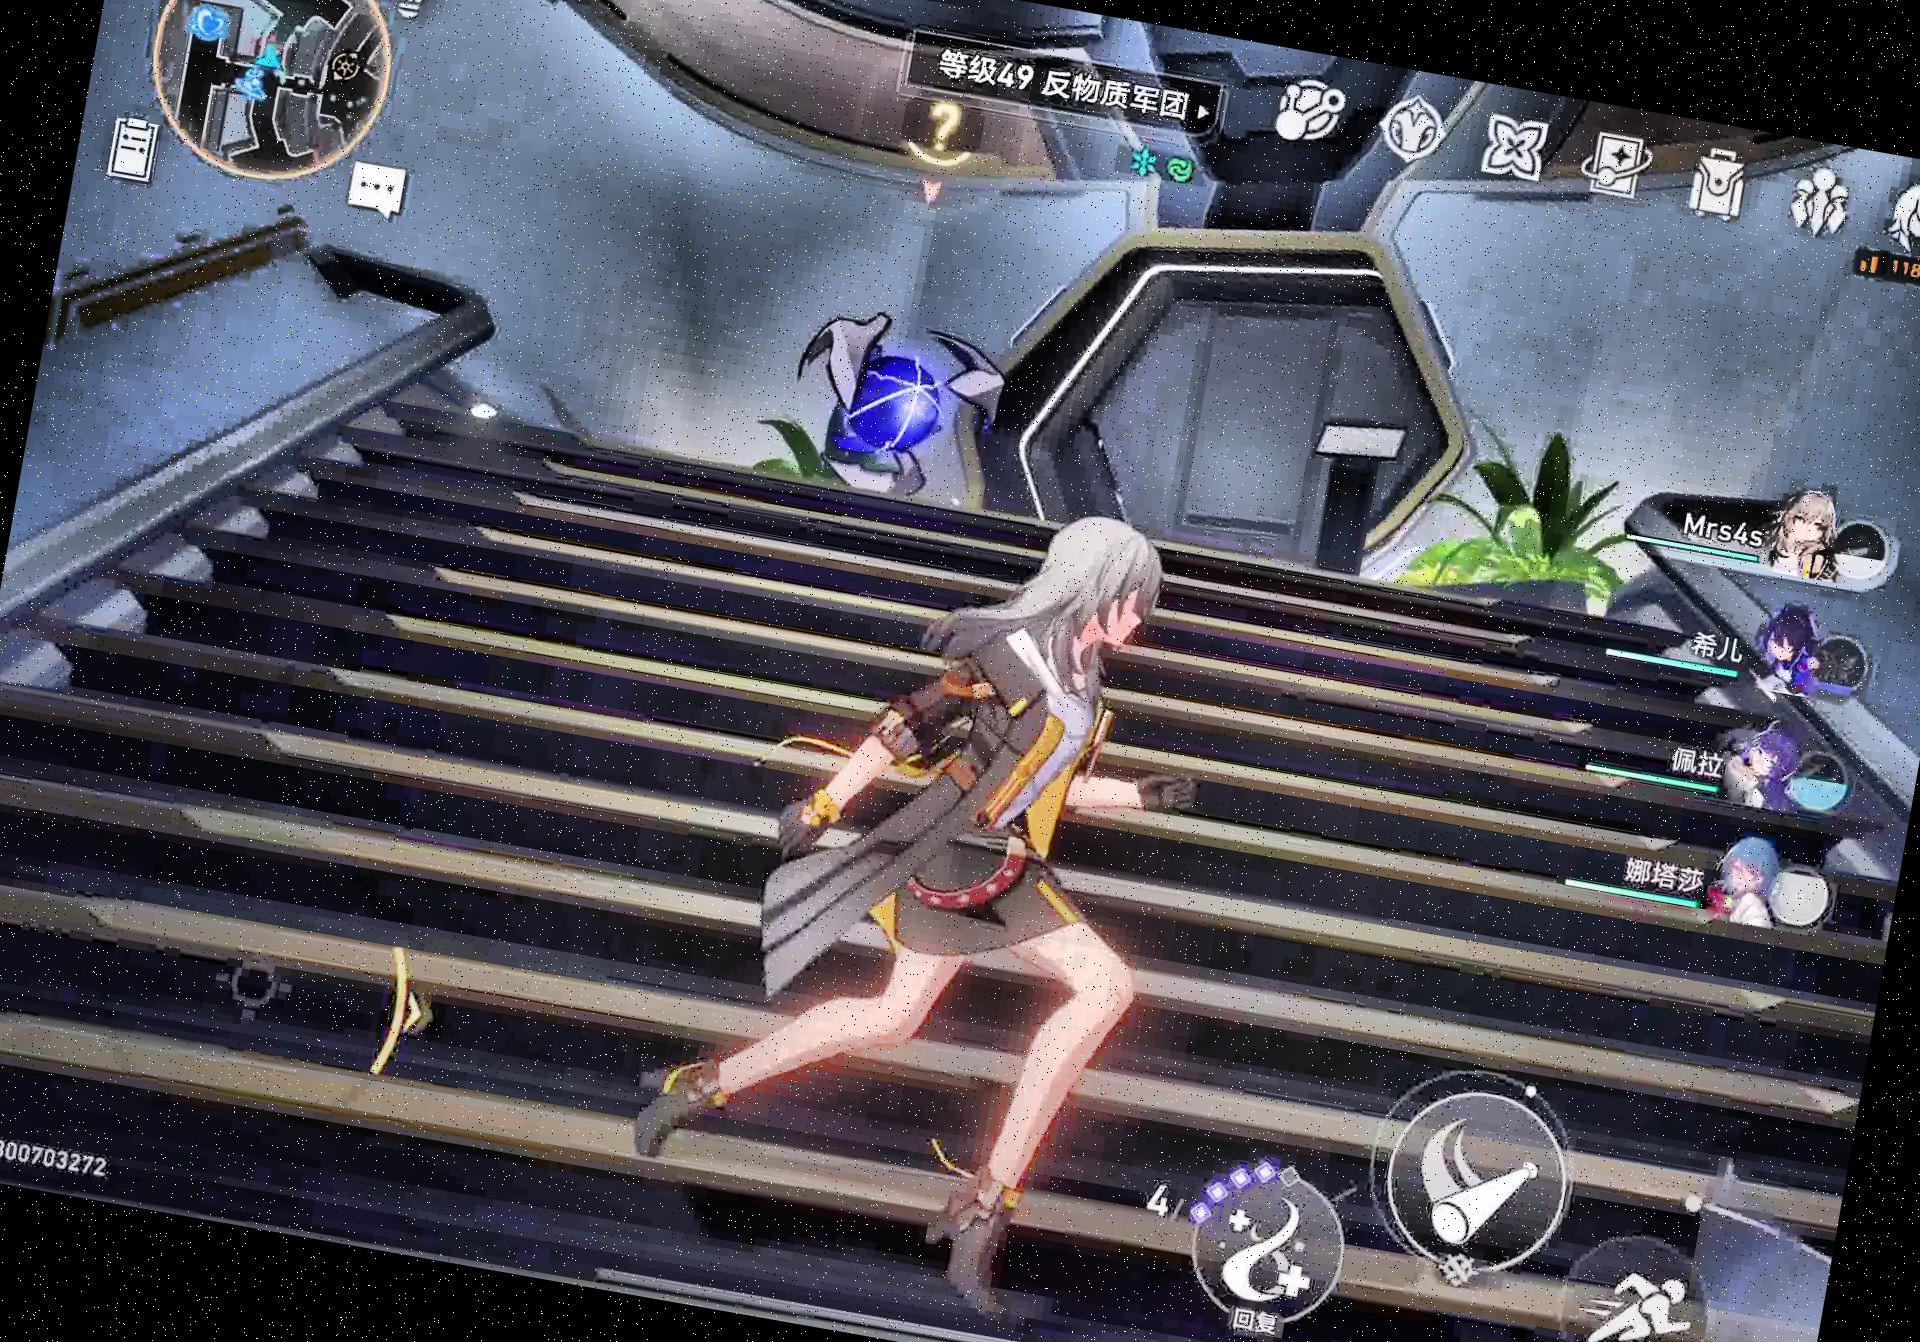Enemy: (766, 296, 1018, 530)
Self: (605, 452, 1205, 1292)
